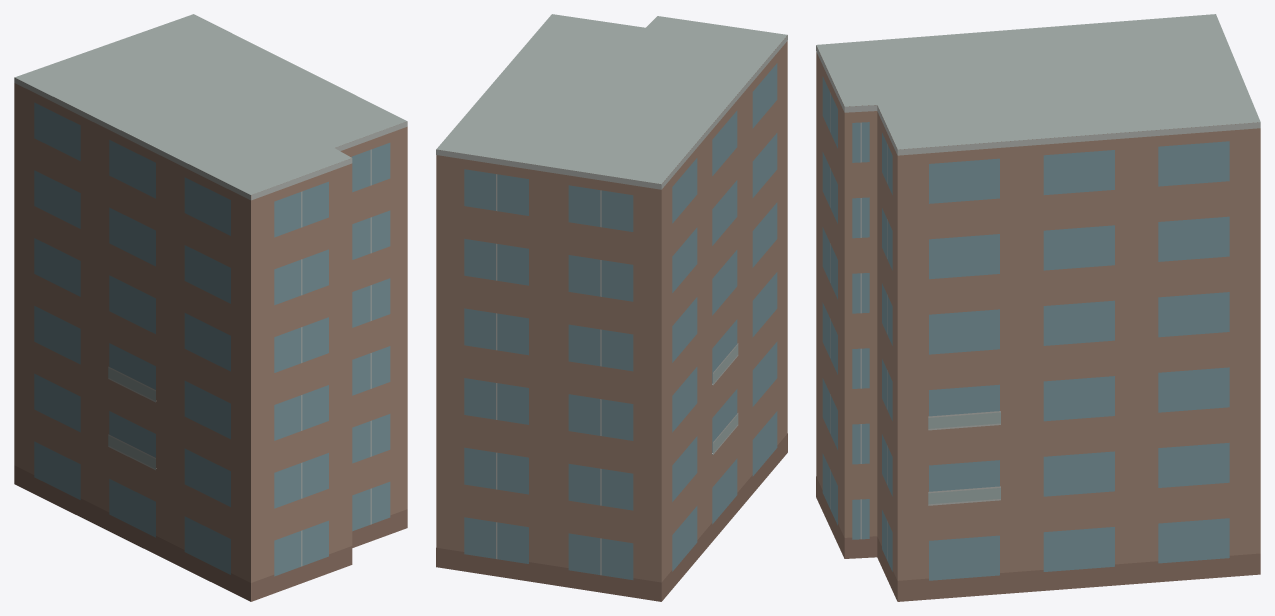
The model's file is survey-upis-33039320.glb.
The picture shows the model from 3 angles, left to right: view 1: azimuth 30°, elevation 25°; view 2: azimuth 150°, elevation 25°; view 3: azimuth 270°, elevation 25°; orthographic projection. The views are drawn at different scales.
Parts seen in each view (by area): view 1: survey-upis-33039320.tmp; view 2: survey-upis-33039320.tmp; view 3: survey-upis-33039320.tmp.
Boxes of the visible parts, left/top/right/bottom form: survey-upis-33039320.tmp: left=14, top=14, right=407, bottom=601; survey-upis-33039320.tmp: left=436, top=14, right=787, bottom=601; survey-upis-33039320.tmp: left=816, top=14, right=1260, bottom=601.
Bounding box in the file's own units: 11.78 × 18.3 × 16.31.
